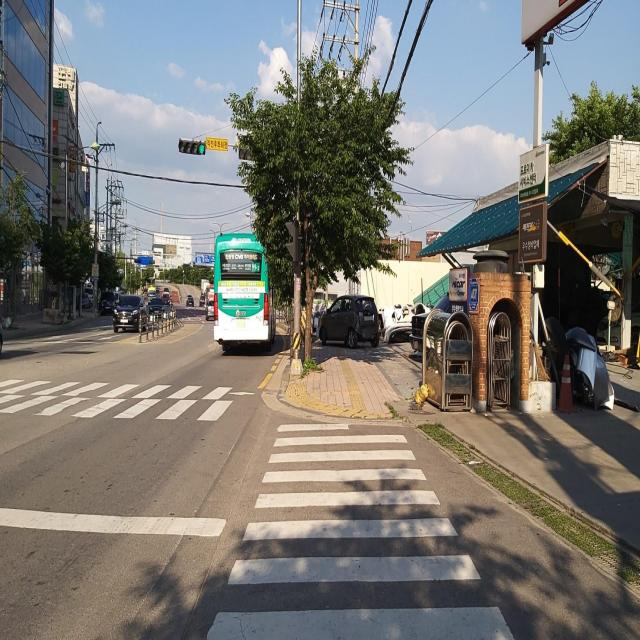횡단보도: (205, 417, 518, 640), (0, 374, 260, 419)
